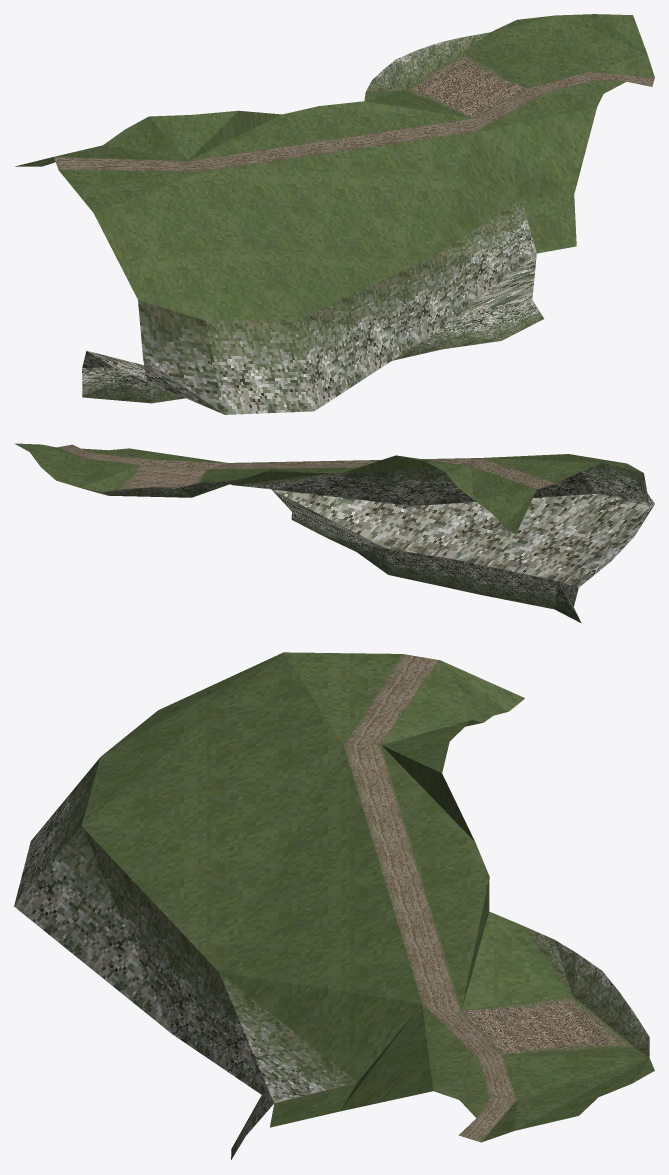
Rendered from lodcunteground30.obj.
3 views of the same model, one above another, from view 1: azimuth 30°, elevation 25°; view 2: azimuth 150°, elevation 25°; view 3: azimuth 270°, elevation 25° (orthographic). The views are drawn at different scales.
Visible parts, largest first — view 1: LODcuntEground30; view 2: LODcuntEground30; view 3: LODcuntEground30.
Part boxes in pixels (x1,y1,x2,y2): LODcuntEground30: (15, 14, 654, 414); LODcuntEground30: (14, 443, 654, 623); LODcuntEground30: (14, 652, 654, 1159).
Bounding box in the file's own units: 190 × 62.32 × 126.
6 materials, 6 textured.
